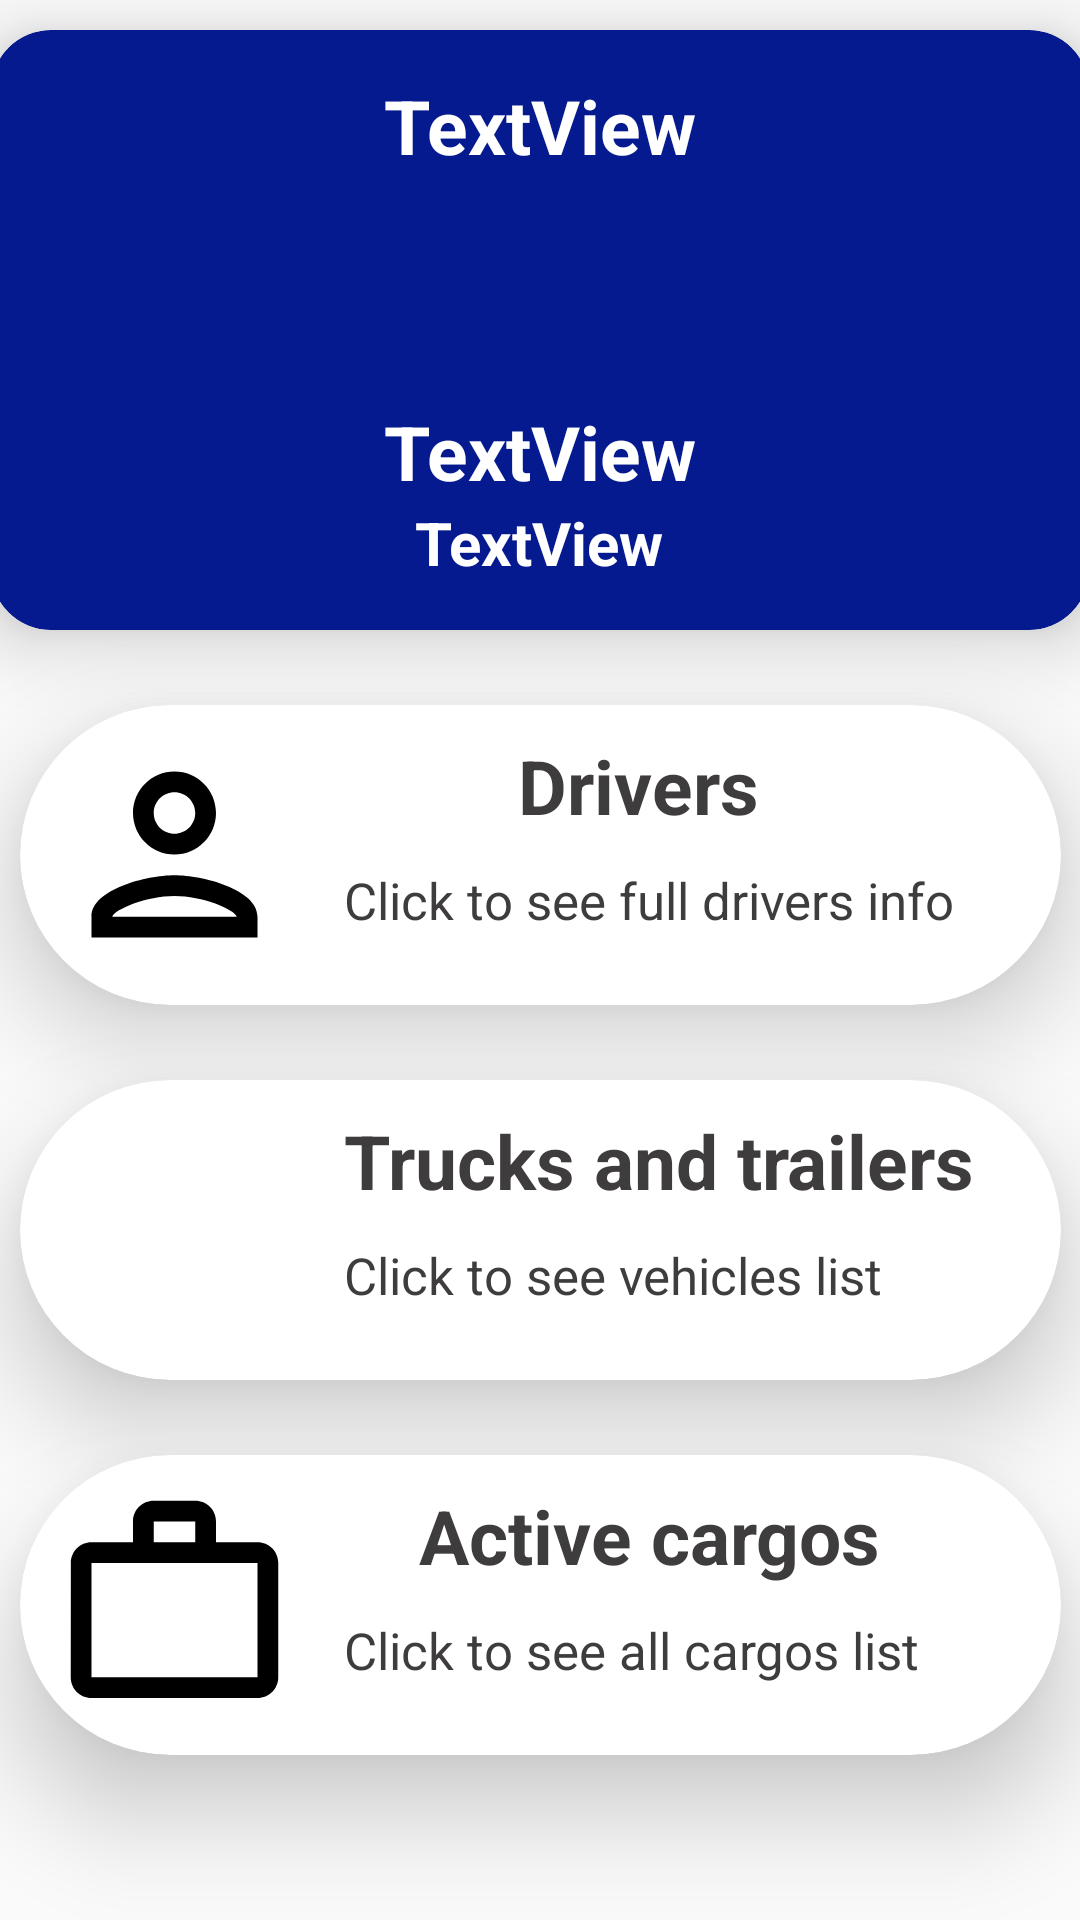

Screen size 1080x1920. Icon name, then its center in pixels as (x=x, y=y):
person: (x=174, y=854)
work: (x=174, y=1599)
